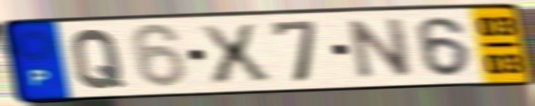6: (128, 21, 195, 93), (412, 14, 473, 79)
7: (270, 19, 323, 84)
N: (346, 15, 416, 82)
Q: (68, 27, 128, 91)
X: (194, 21, 276, 87)
